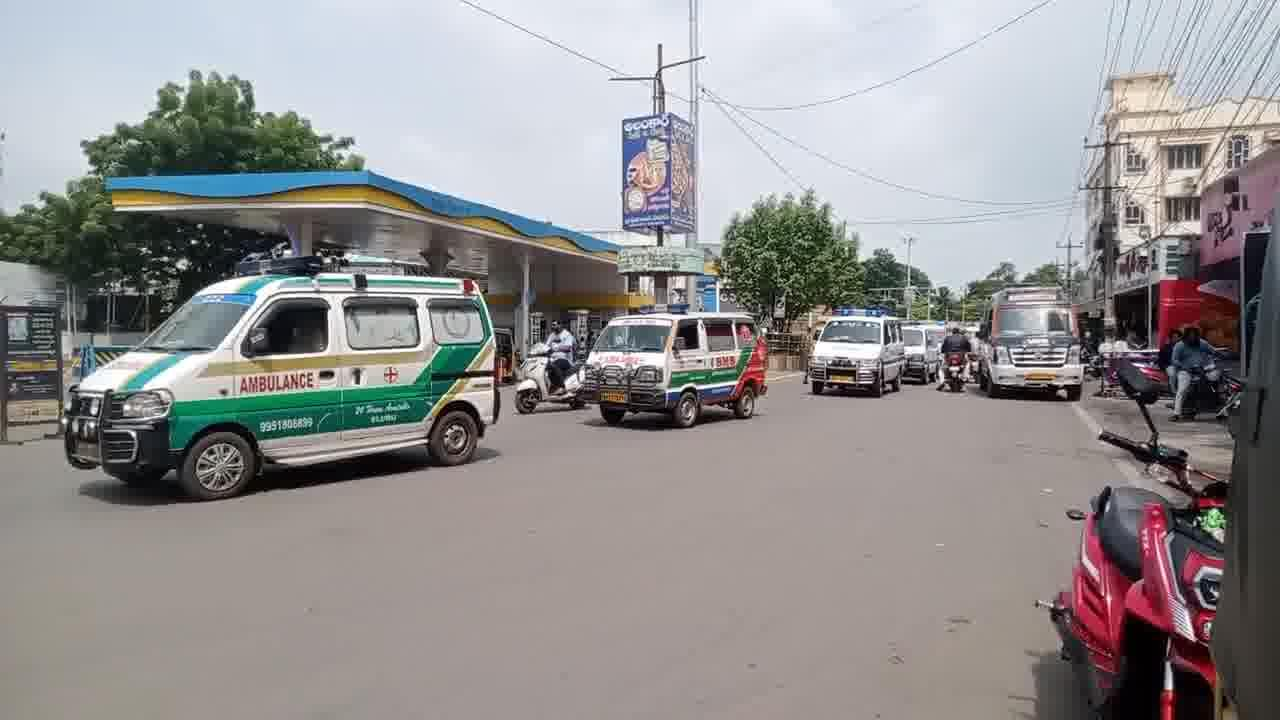AMBULANCE: (64, 272, 507, 464), (590, 305, 764, 418), (989, 285, 1088, 388), (815, 315, 903, 396)
